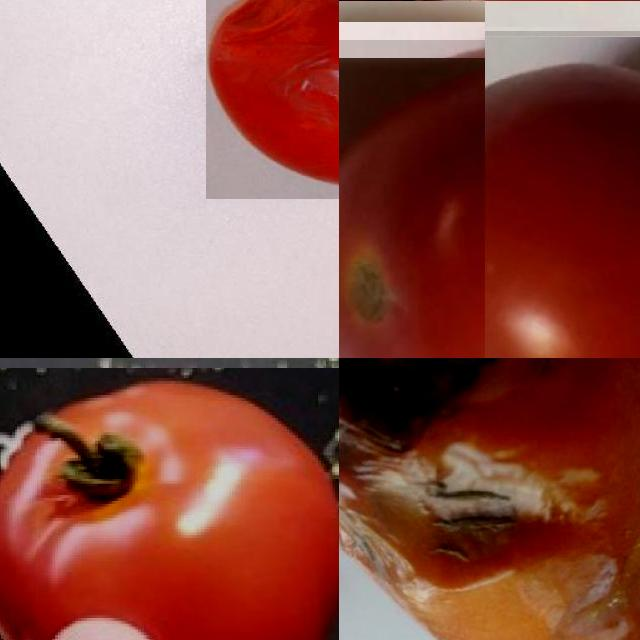1: (339, 358, 640, 640)
Fresh Tomato: (0, 368, 339, 640), (485, 30, 640, 358), (339, 39, 485, 358)
Rotten Tomato: (206, 0, 339, 199)
